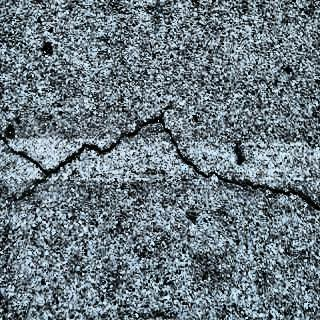crack: (188, 151, 320, 216), (3, 120, 130, 183), (132, 116, 180, 149), (170, 130, 197, 174)
